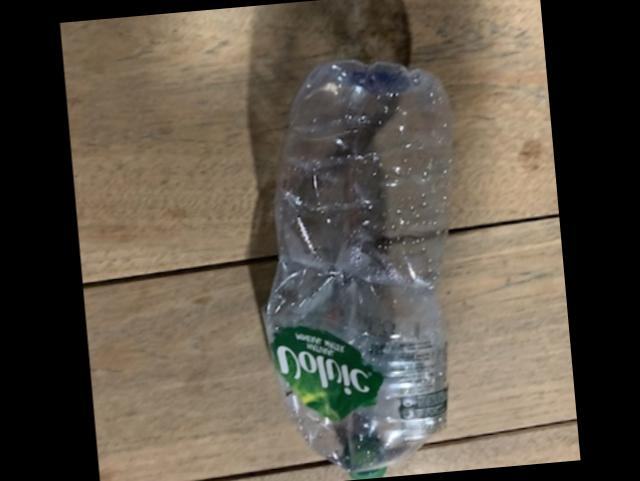plastic: (263, 57, 449, 478)
